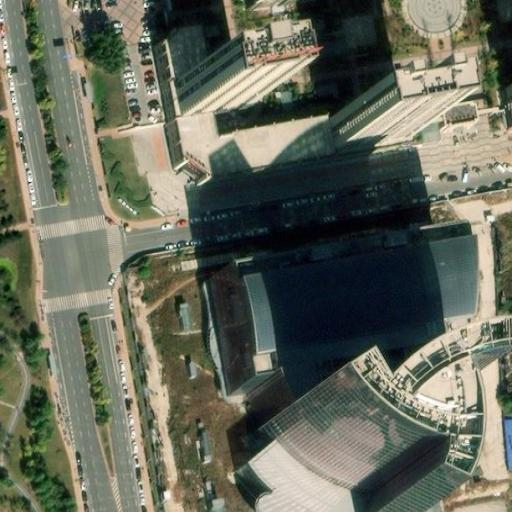building: (215, 244, 460, 392), (264, 370, 428, 512), (184, 110, 326, 172), (248, 437, 365, 512), (320, 102, 412, 153), (178, 62, 253, 116), (170, 24, 212, 75), (499, 423, 512, 477), (211, 497, 226, 512)
